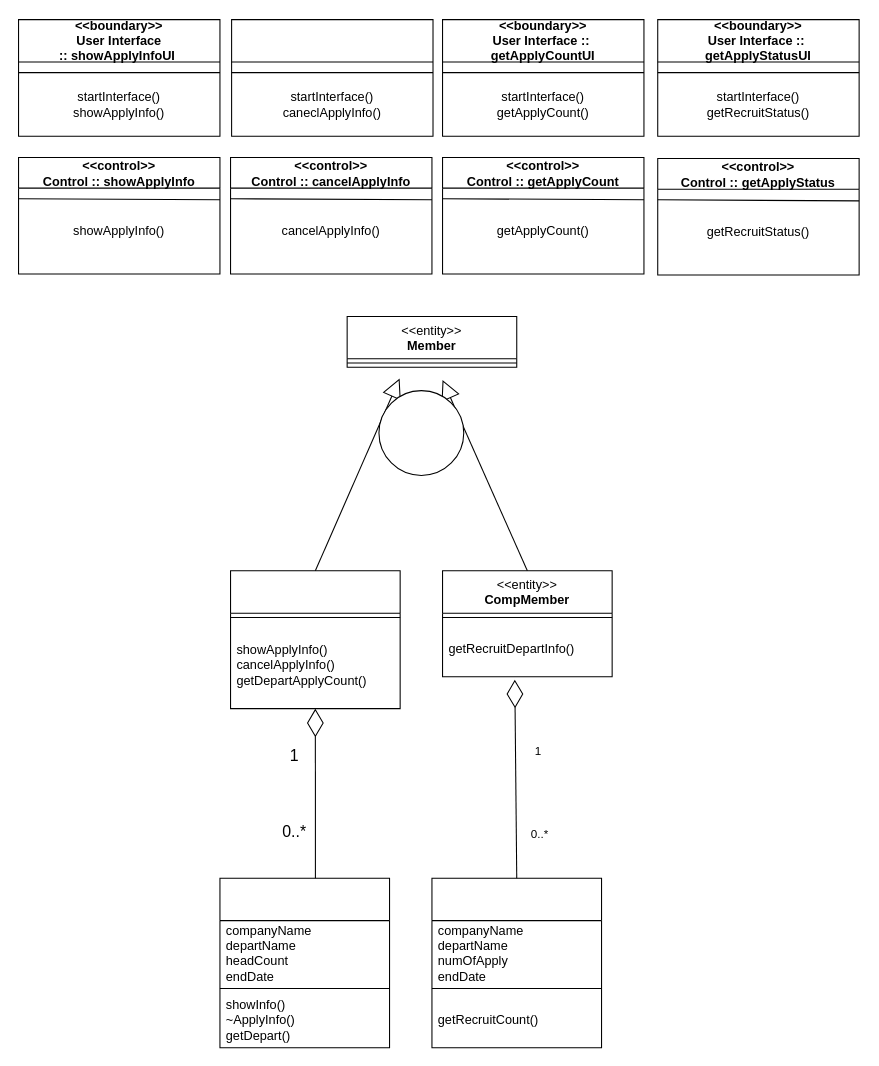
The diagram is 879 pixels wide and 1066 high, and some of its shapes have lost their labels. Here are the shapes that lost their labels. From the top down, the box of each, then its label:
(231, 19, 433, 136): <<boundary>> User Interface :: cancelApplyInfoUI
(229, 570, 400, 709): <<entity>> GenMember
(219, 877, 390, 1048): <<entity>> ApplyInfo
(431, 877, 602, 1048): <<entity>> RecruitInfo
